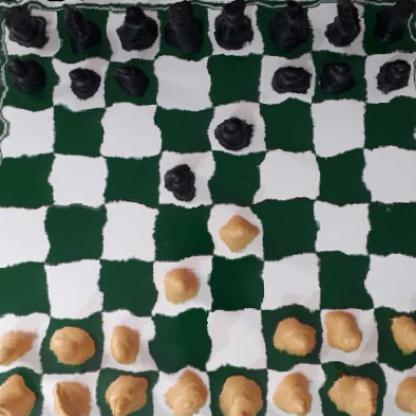black-bishop: (266, 0, 311, 48), (118, 2, 157, 54)
black-king: (215, 0, 257, 52)
black-knight: (60, 2, 101, 54), (320, 0, 361, 49)
black-pawn: (372, 58, 416, 98), (216, 110, 257, 149), (9, 56, 45, 100), (318, 56, 359, 93), (163, 160, 199, 201), (61, 64, 102, 98), (274, 62, 309, 100), (113, 64, 150, 95)
black-queen: (163, 0, 209, 49)
black-rook: (0, 5, 55, 48), (370, 0, 416, 46)
white-bishop: (108, 370, 153, 416), (274, 368, 317, 416)
white-king: (220, 374, 263, 416)
white-knight: (330, 367, 373, 416), (50, 376, 96, 416)
white-pawn: (157, 258, 205, 304), (271, 316, 318, 360), (0, 320, 41, 366), (322, 309, 365, 352), (50, 325, 93, 366), (106, 320, 147, 361), (219, 216, 258, 251), (385, 308, 416, 349)
white-queen: (163, 372, 216, 416)
white-rook: (0, 377, 36, 416), (389, 365, 416, 416)
